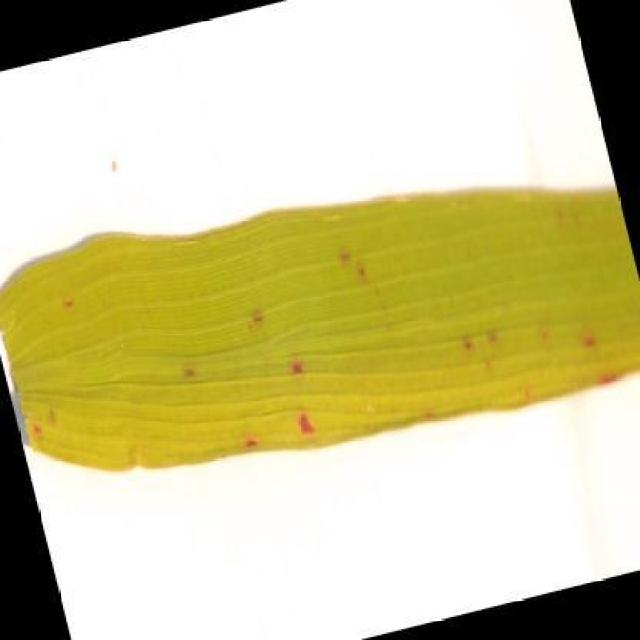Leaf_Blast: (261, 314, 330, 444), (326, 222, 376, 292), (22, 385, 69, 452), (228, 404, 269, 467), (455, 322, 511, 368), (508, 350, 542, 415), (407, 377, 445, 435), (570, 311, 608, 367), (586, 344, 622, 398), (530, 316, 561, 358), (52, 282, 83, 322)
